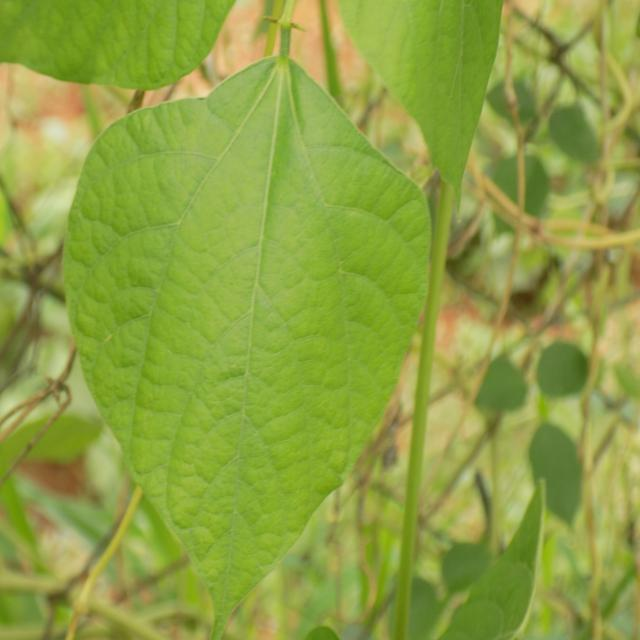Dolicos bean_healthy: (60, 52, 430, 636)
